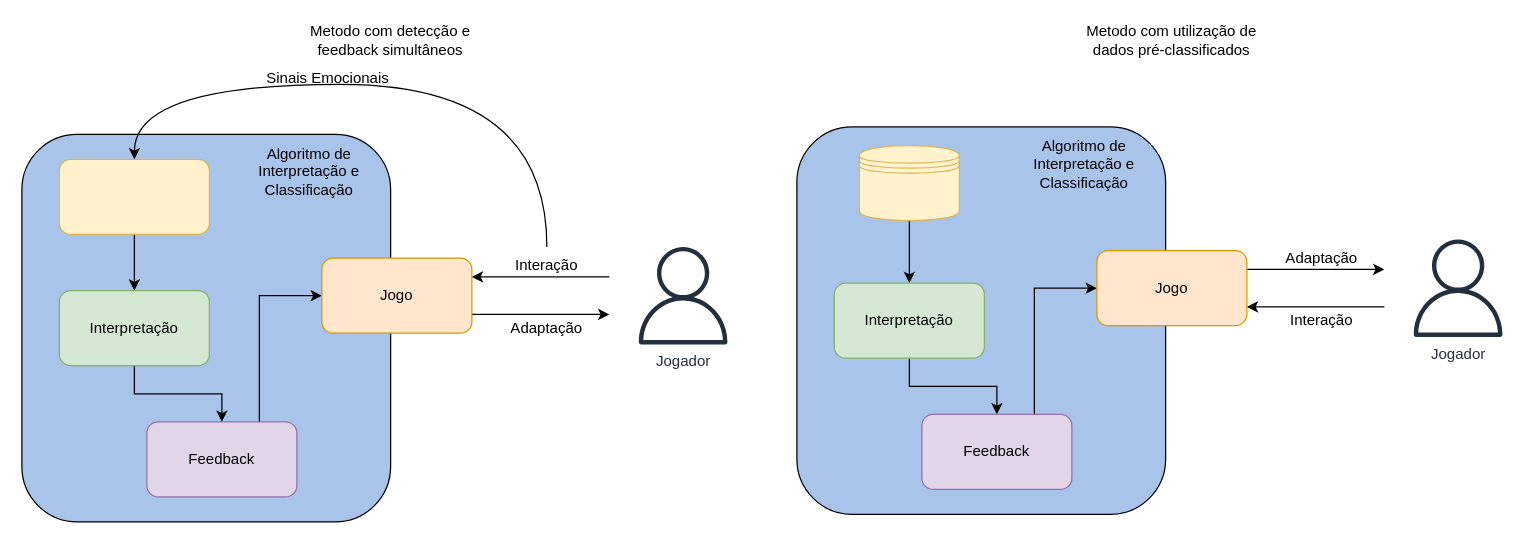
This 1529x544 diagram has some shape labels left out. The shapes that lost their labels are listed below. From the top down, each one's centre as x and y in pixels, then its label:
At (x=133, y=196): "Captação".
At (x=908, y=182): "Dados classificados".
